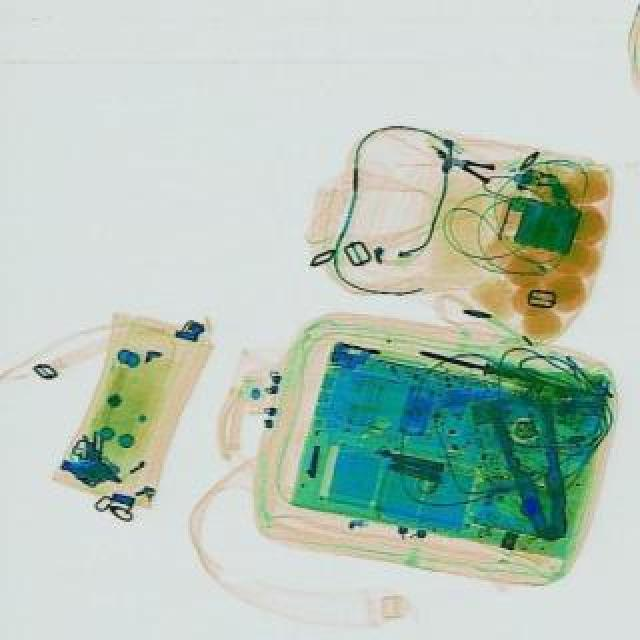wrench: (486, 392, 582, 548)
